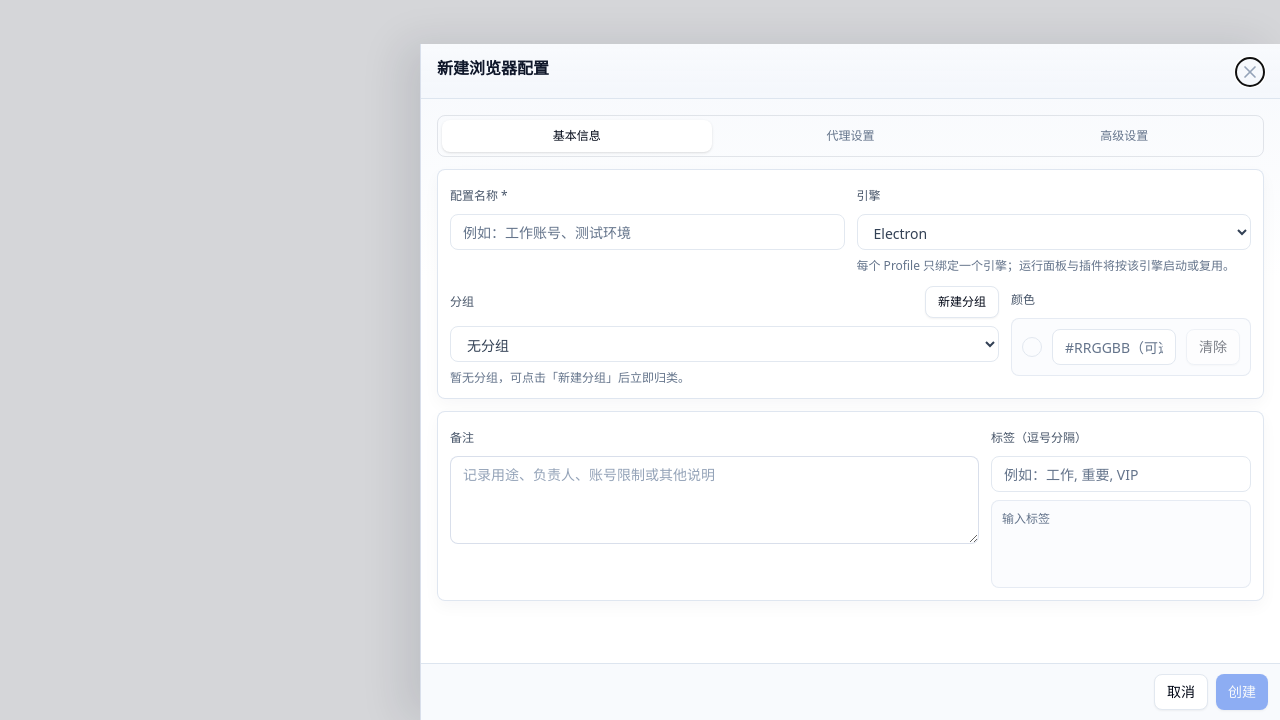
ProfileFormDialog submit payload › keeps fingerprint and performance controls behind the advanced settings tab
The width and height of the screenshot is (1280, 720).
Click the tab "高级设置".
click(1124, 136)  # box left=989, top=120, right=1259, bottom=152
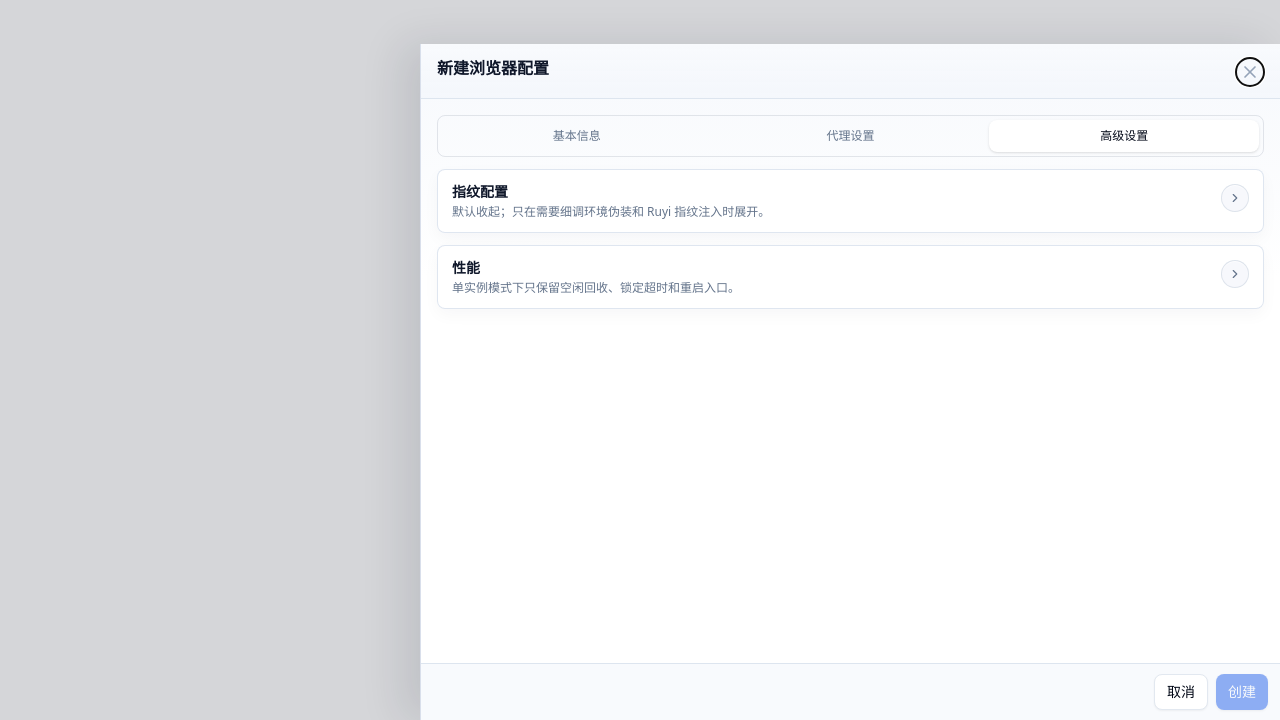
expect the text "GPU 厂商" is not shown: met
Click the button "指纹配置 默认收起；只在需要细调环境伪装和 Ruyi 指纹注入时展开。".
click(480, 192)  # box left=438, top=170, right=1263, bottom=232
(page scrolled)
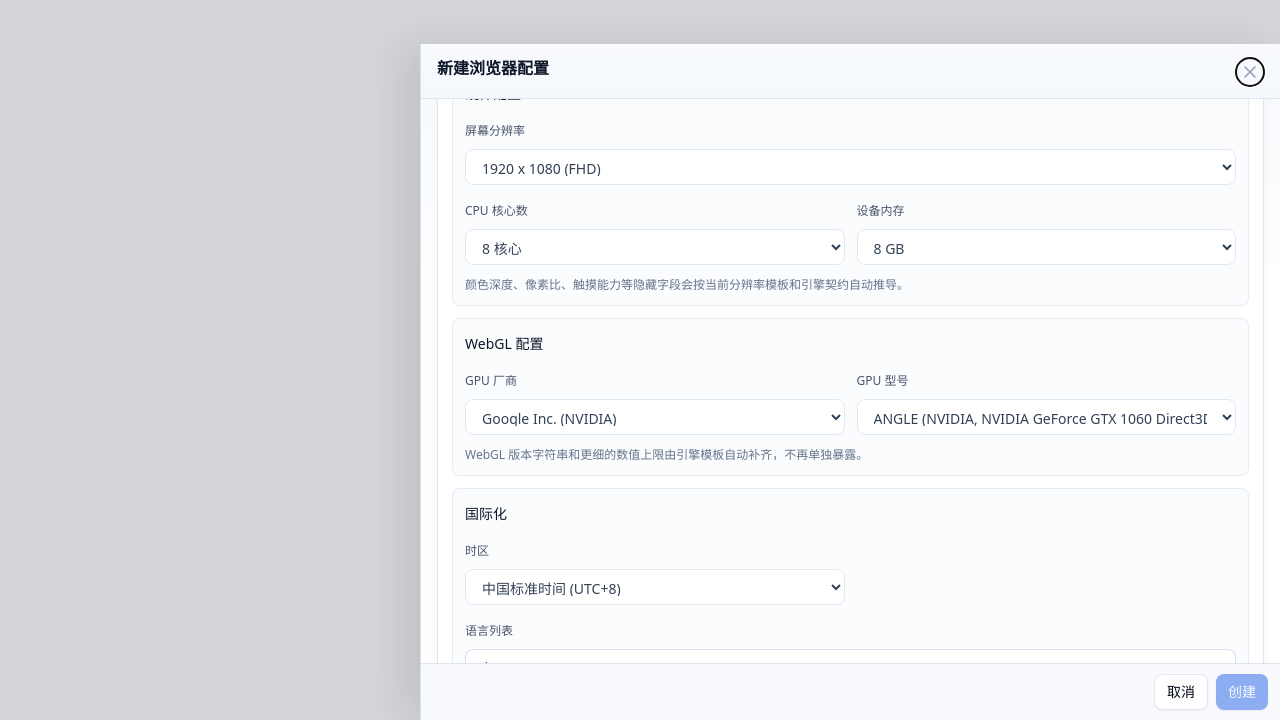
expect the text "GPU 厂商" is shown: met, box left=465, top=372, right=517, bottom=389
